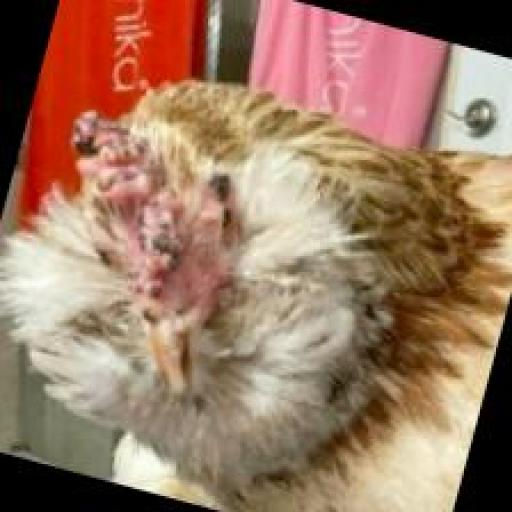disease: (74, 117, 196, 311)
